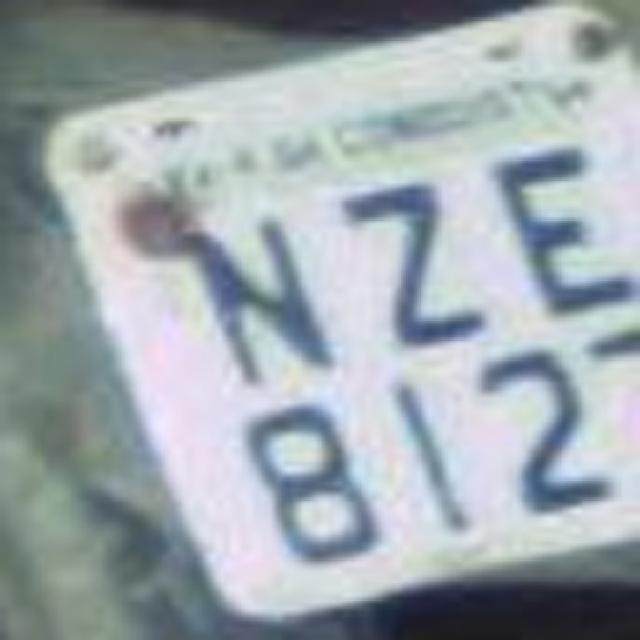1: (368, 360, 488, 540)
2: (455, 332, 620, 528)
8: (228, 376, 388, 576)
N: (171, 196, 344, 396)
Z: (325, 168, 480, 352)
